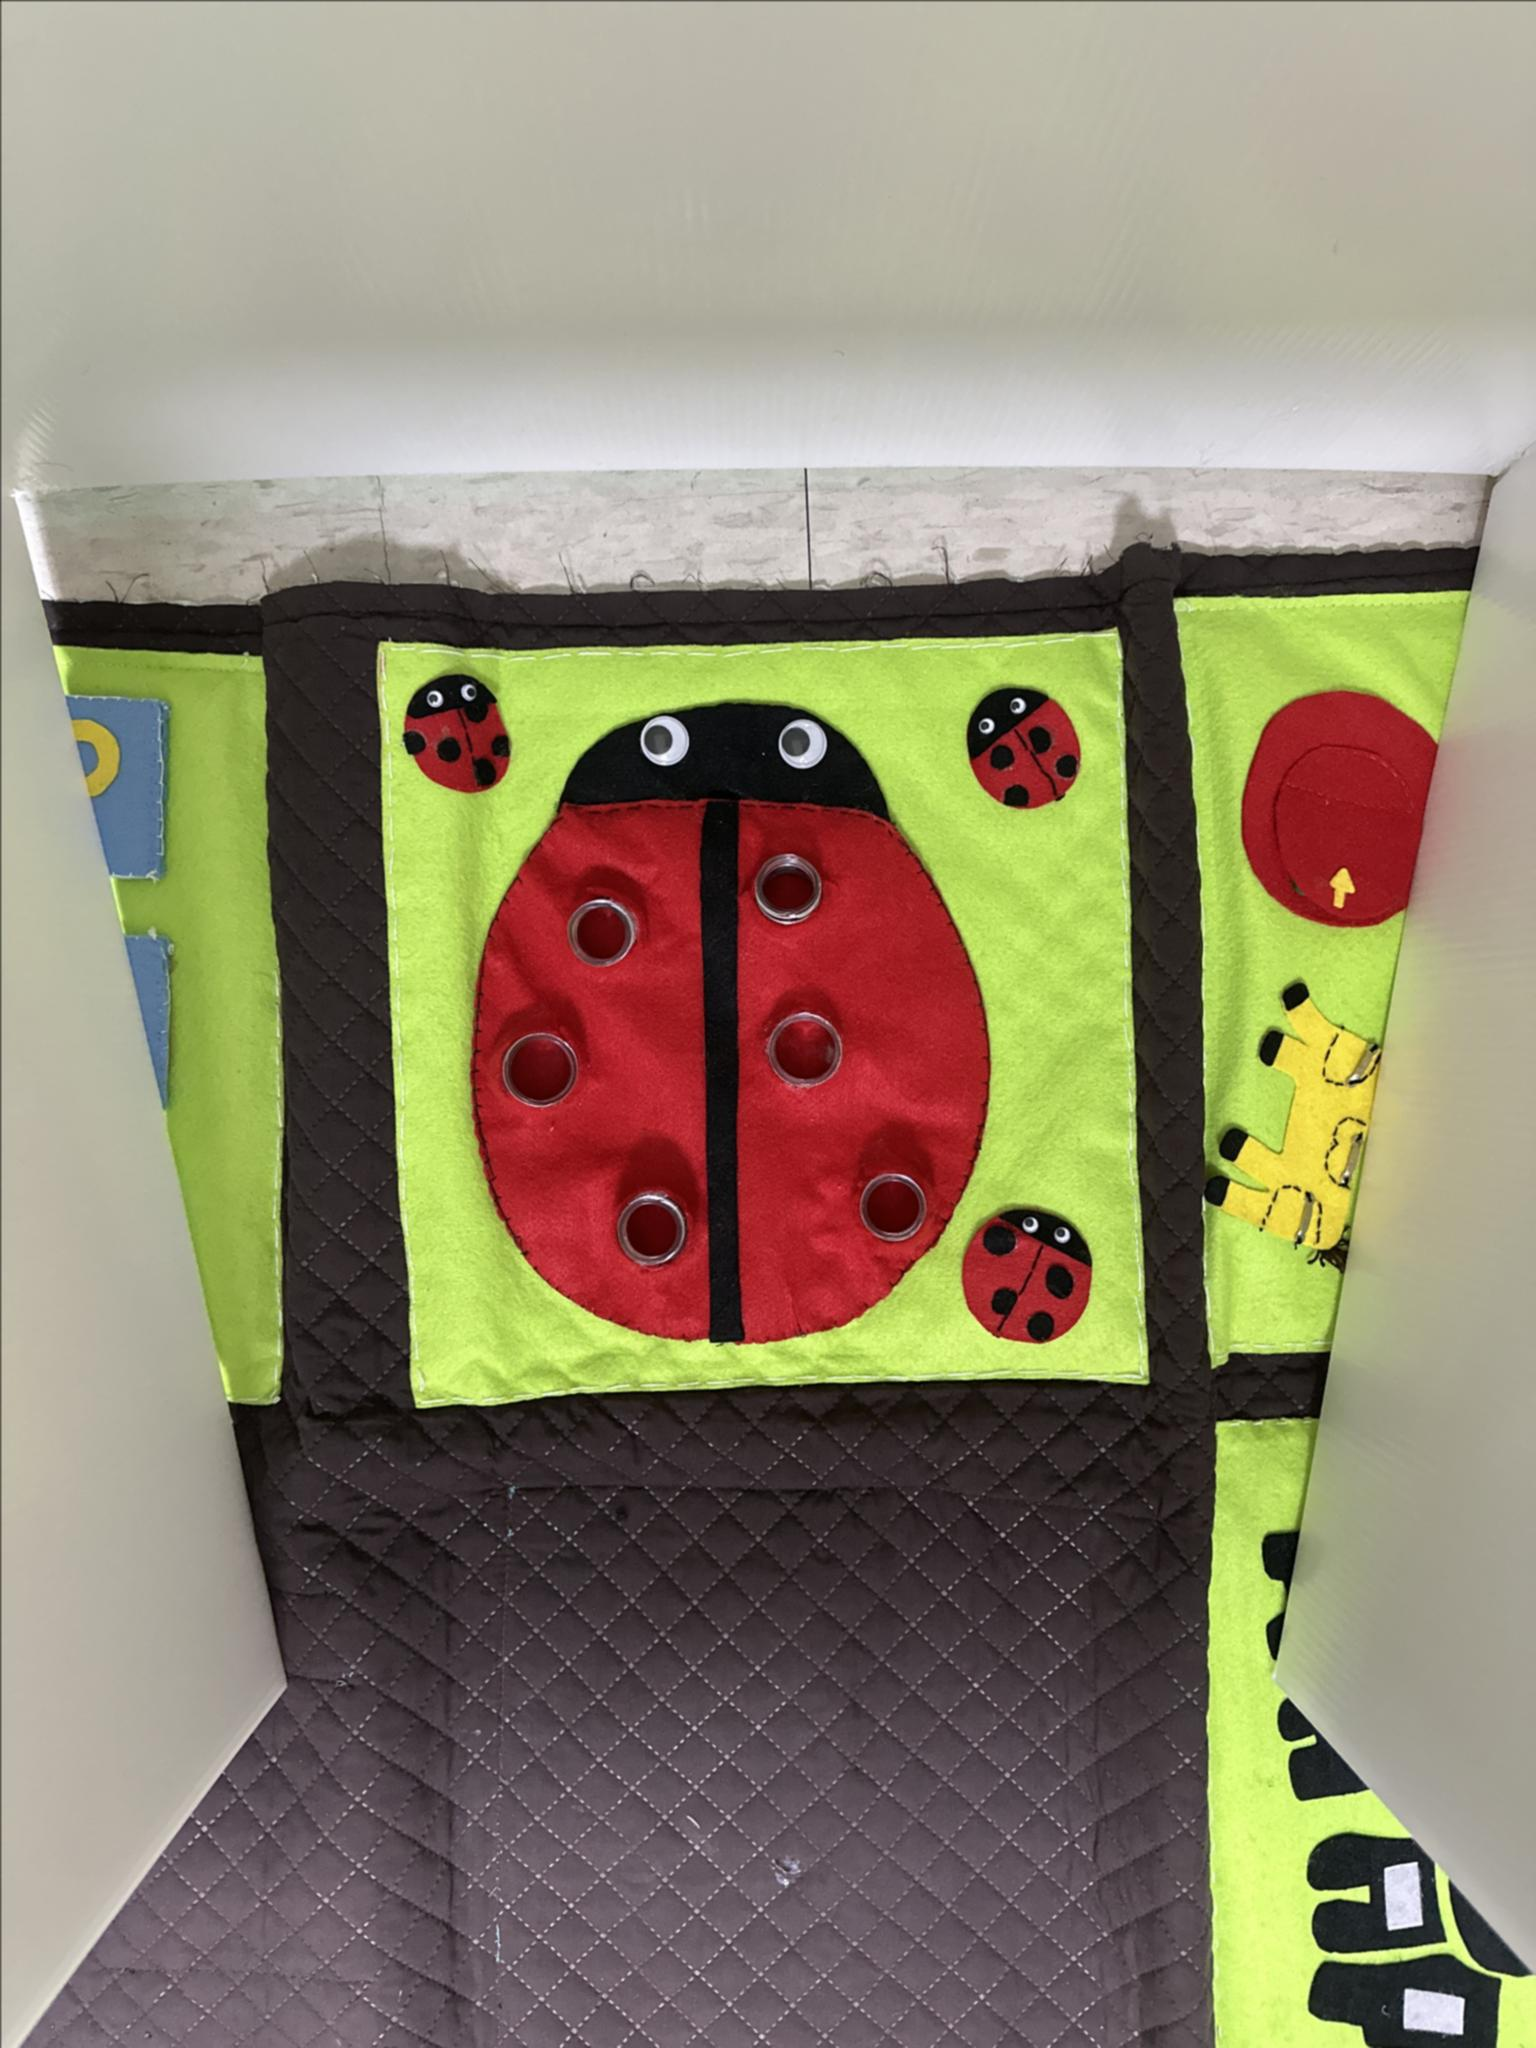hole: (842, 1158, 942, 1255), (489, 1016, 581, 1113), (607, 1174, 697, 1271), (736, 853, 829, 940), (558, 893, 642, 971), (753, 1006, 824, 1087)
ladybug_case: (460, 706, 983, 1347)
